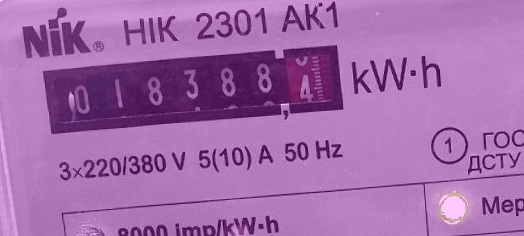0: (70, 80, 92, 117)
1: (107, 72, 128, 110)
3: (180, 65, 202, 101)
4: (294, 69, 316, 104)
8: (142, 71, 166, 108), (252, 58, 275, 95), (216, 64, 238, 100)
screen: (33, 34, 356, 145)
